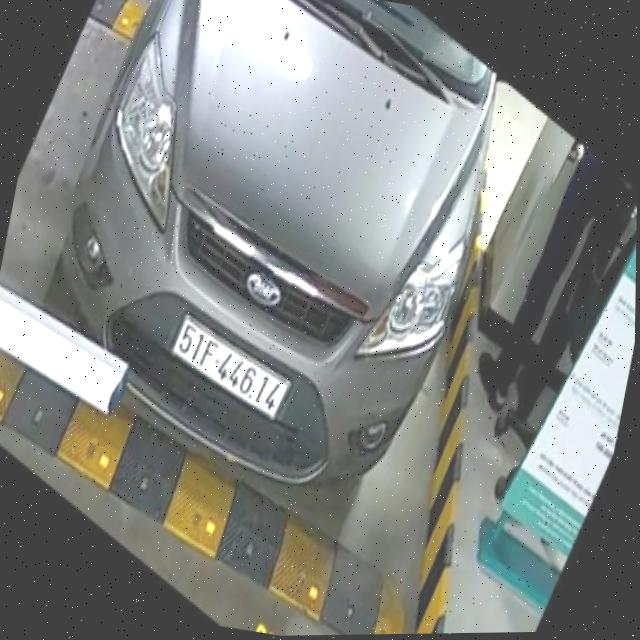car: (24, 0, 518, 532)
plate: (155, 308, 302, 428)
